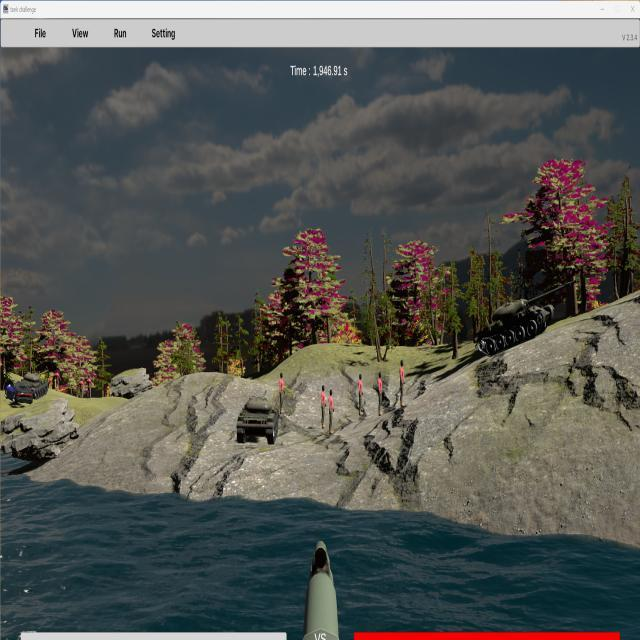Tank: (475, 277, 575, 357), (237, 386, 280, 445), (17, 371, 50, 399)
car: (8, 381, 34, 403)
